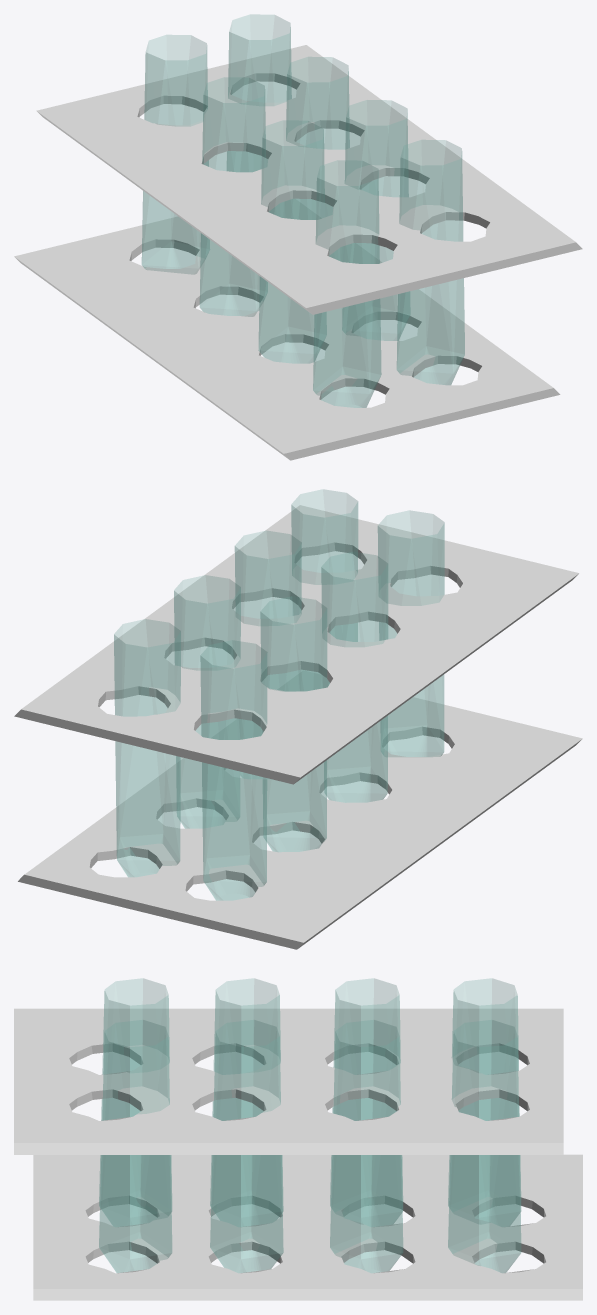
File: Beaker set.glb
The picture shows the model from 3 angles, top to bottom: view 1: azimuth 30°, elevation 25°; view 2: azimuth 150°, elevation 25°; view 3: azimuth 270°, elevation 25°; orthographic projection. The views are drawn at different scales.
Visible parts, largest first — view 1: Plane, Cylinder.003, Plane.001; view 2: Cylinder.003, Plane, Plane.001; view 3: Plane, Plane.001, Cylinder.003.
Boxes of the visible parts, x1,y1,x2,y2 form: Plane: [36, 45, 582, 314]; Cylinder.003: [141, 14, 464, 407]; Plane.001: [14, 199, 560, 460]; Cylinder.003: [114, 489, 444, 900]; Plane: [14, 505, 579, 784]; Plane.001: [18, 670, 582, 949]; Plane: [14, 1008, 563, 1154]; Plane.001: [33, 1154, 582, 1300]; Cylinder.003: [99, 978, 521, 1273].
Bounding box in the file's own units: 0.6318 × 0.4968 × 1.06.
